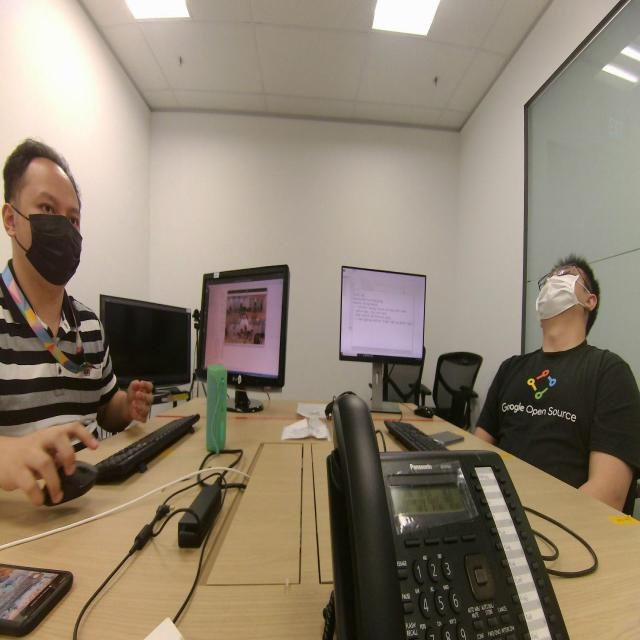obstacle: (4, 119, 113, 458), (502, 234, 616, 444)
